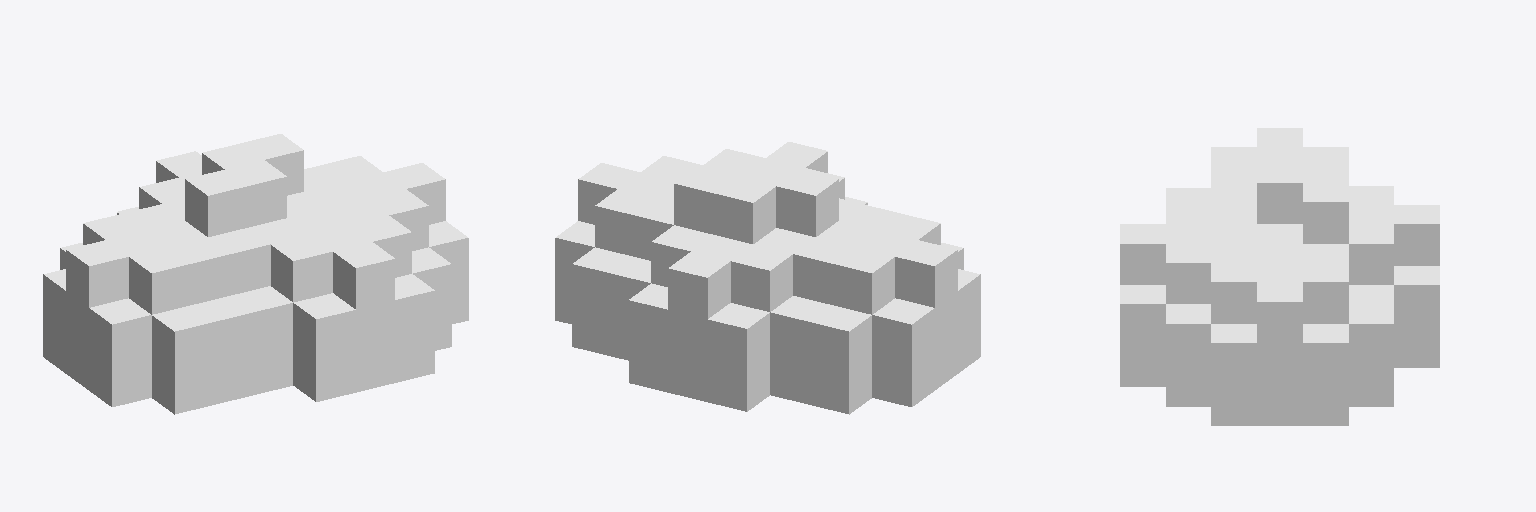
File: Stone1_M.obj
3 views of the same model, side by side, from view 1: azimuth 30°, elevation 25°; view 2: azimuth 150°, elevation 25°; view 3: azimuth 270°, elevation 25° (orthographic).
Parts seen in each view (by area): view 1: Stone1_M; view 2: Stone1_M; view 3: Stone1_M.
Part boxes in pixels (x1,y1,x2,y2): Stone1_M: (43,134,468,414); Stone1_M: (555,142,980,414); Stone1_M: (1120,128,1439,425).
Bounding box in the file's own units: 0.9 × 0.4 × 0.7.